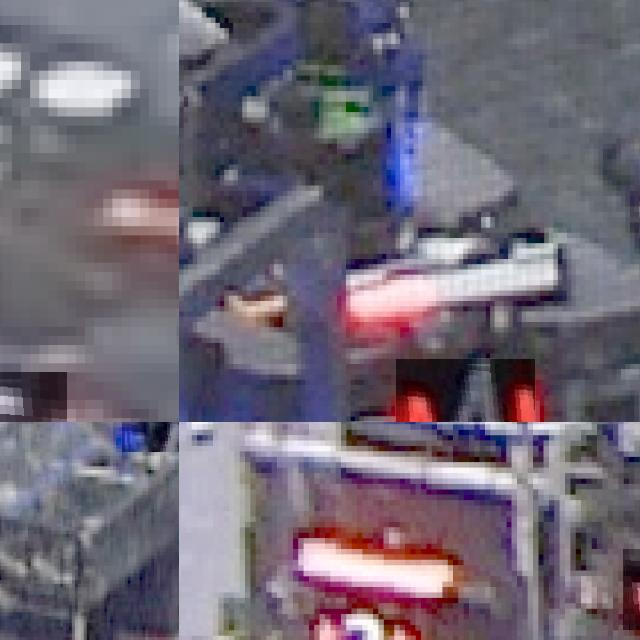B2: (121, 422, 179, 452)
R2: (308, 603, 410, 640), (623, 548, 640, 630)
R4: (395, 359, 535, 422)
